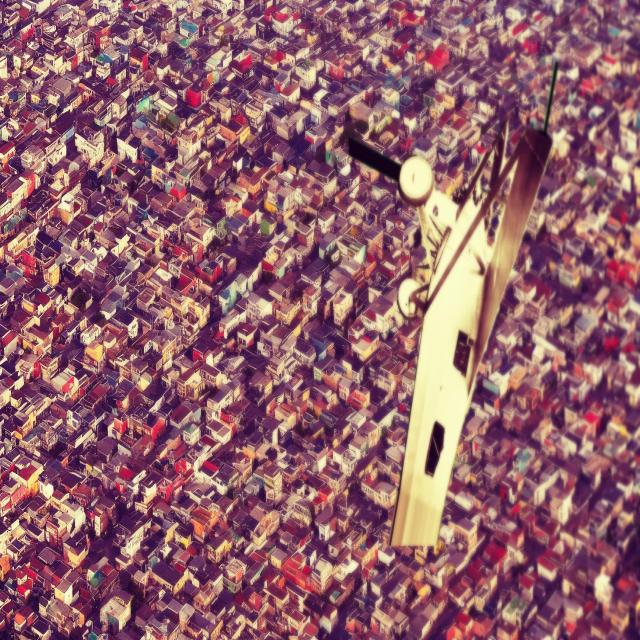airplane: (347, 59, 559, 556)
